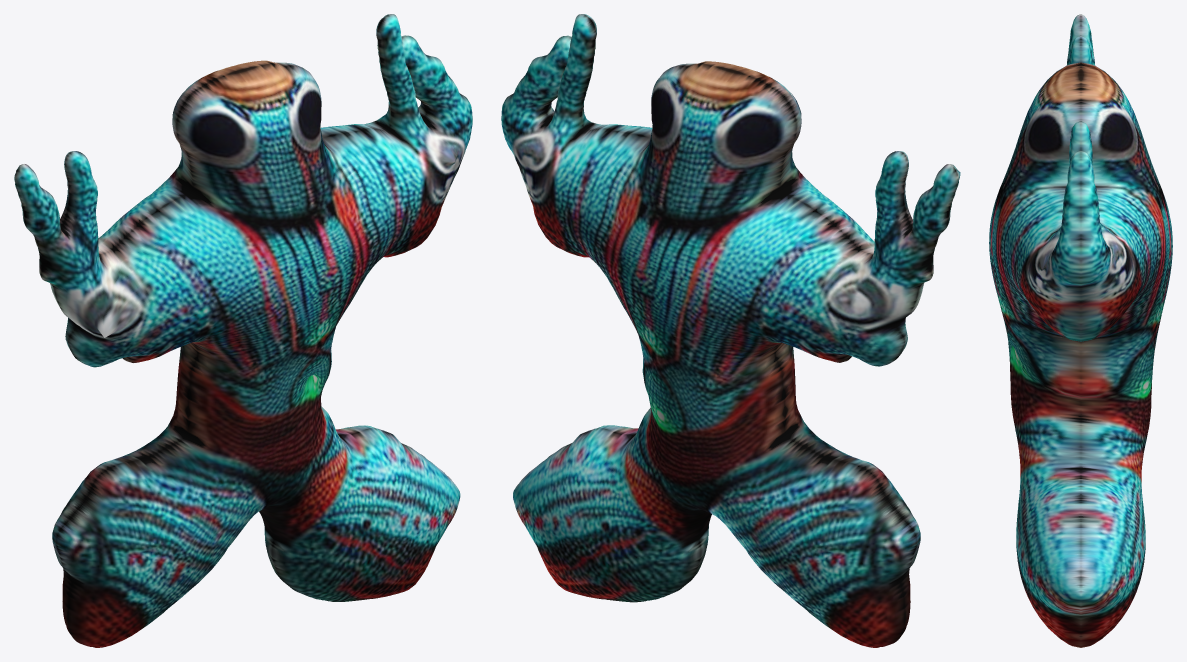
The model's file is asset.glb.
3 views of the same model, side by side, from view 1: azimuth 30°, elevation 25°; view 2: azimuth 150°, elevation 25°; view 3: azimuth 270°, elevation 25° (orthographic). The views are drawn at different scales.
Bounding box in the file's own units: 5.85 × 7.1 × 2.27.
Materials: 1 (1 with a texture image).
